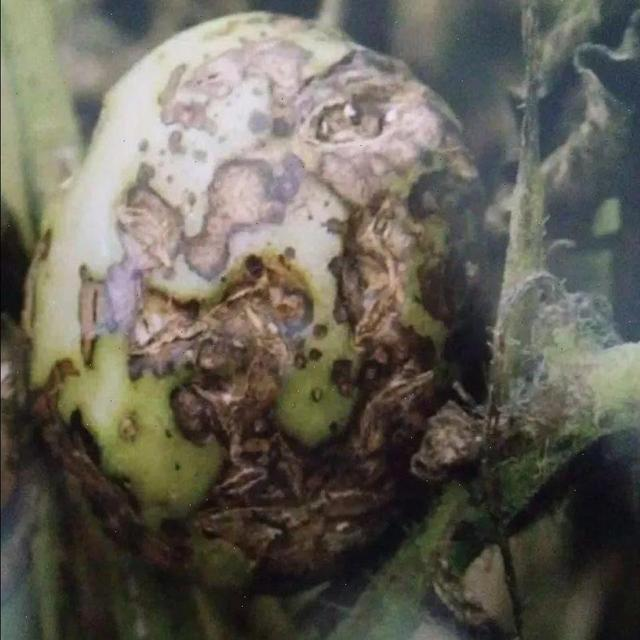Spotted wilt Virus Fruit: (17, 6, 326, 392)
